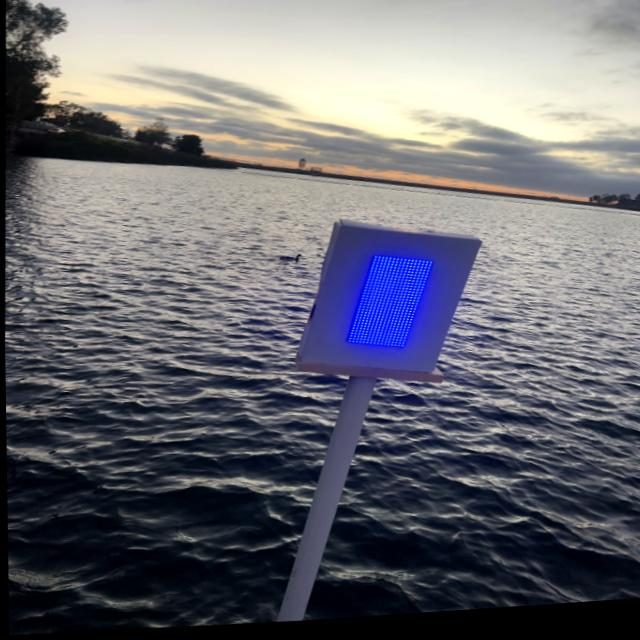led: (331, 235, 439, 366)
